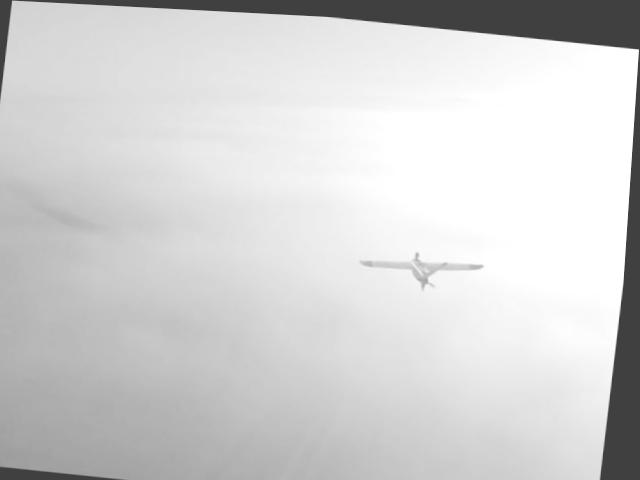hedef: (349, 218, 499, 304)
